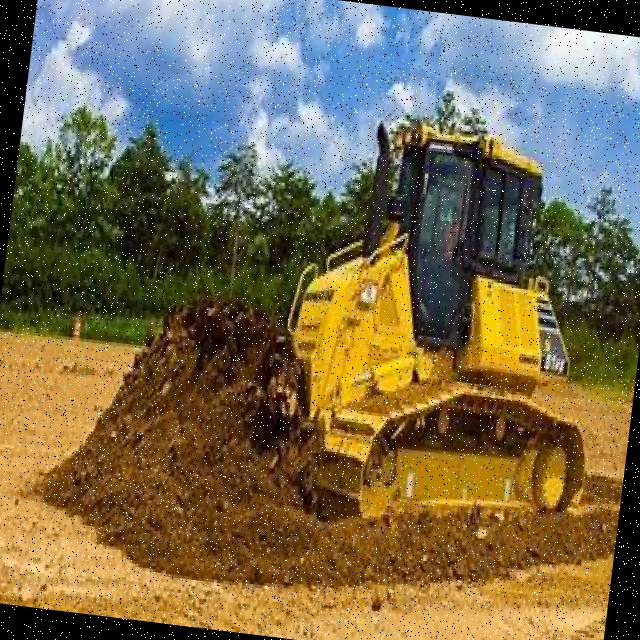Bulldozer: (186, 59, 640, 589)
